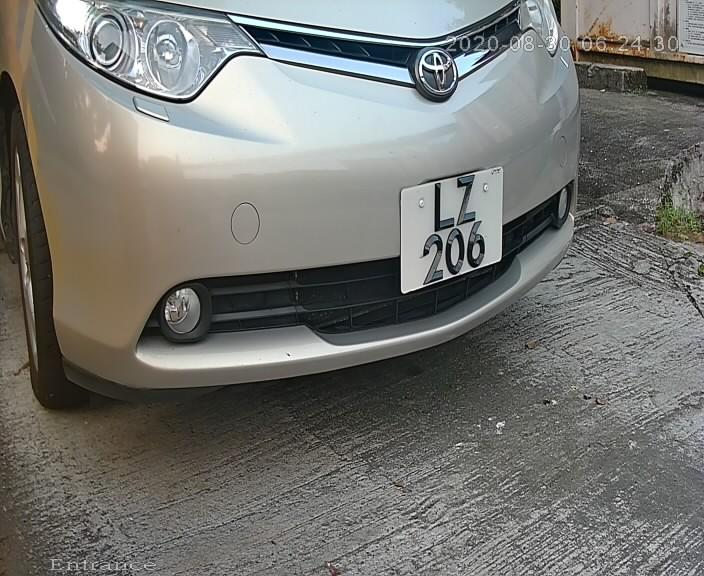License Plate: (393, 157, 516, 301)
